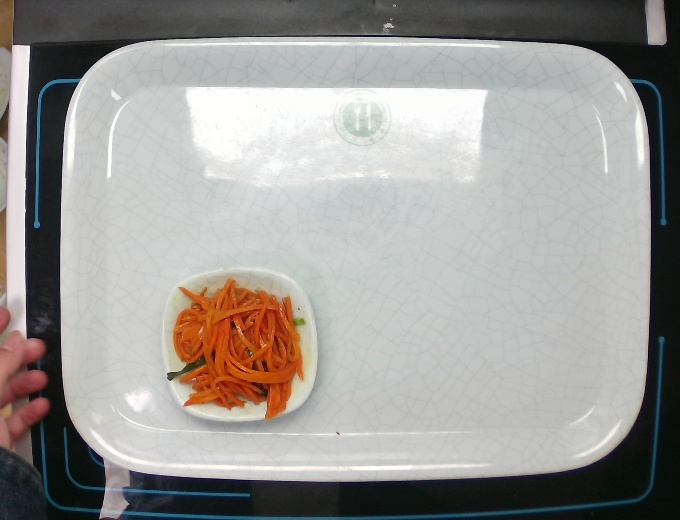JYsf-Si_Fang_Die: (137, 255, 320, 437)
